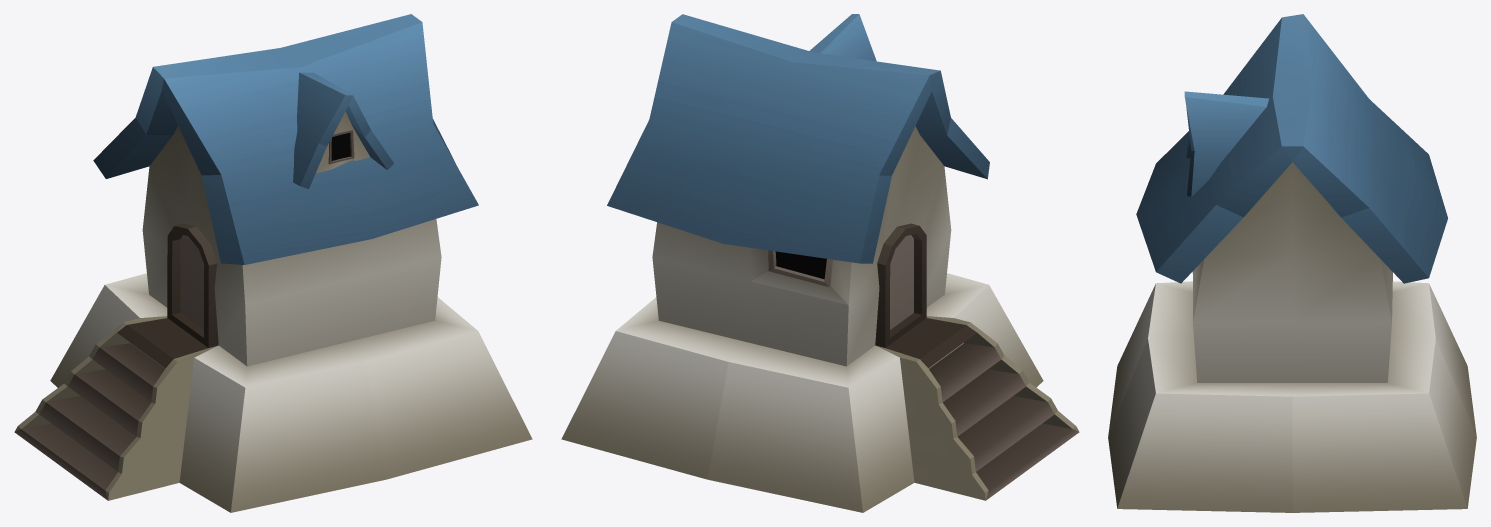
Rendered from house05_mdl.FBX.
3 renders of one model, left to right at view 1: azimuth 30°, elevation 25°; view 2: azimuth 150°, elevation 25°; view 3: azimuth 270°, elevation 25°, orthographic. The views are drawn at different scales.
Parts seen in each view (by area): view 1: house005; view 2: house005; view 3: house005.
Part boxes in pixels (x1,y1,x2,y2): house005: (14, 14, 532, 512); house005: (561, 14, 1079, 512); house005: (1108, 14, 1476, 512).
Size of the model in its own units: 6.04 by 5.51 by 5.1.
1 material, 1 textured.
